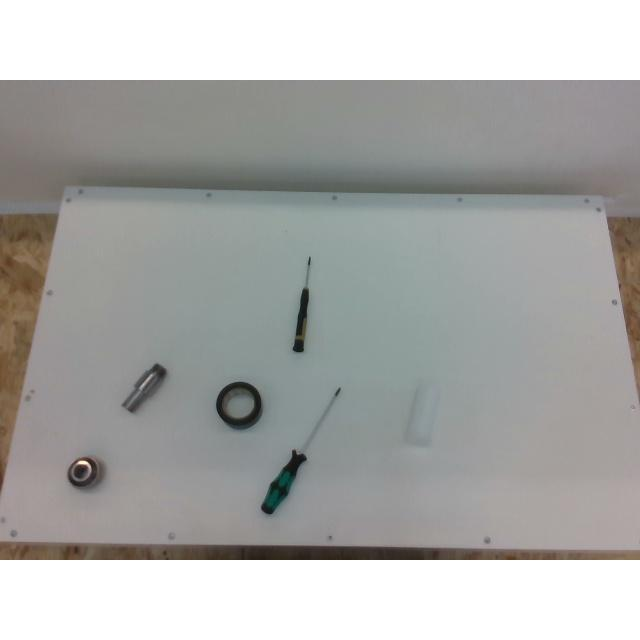Axis2: (122, 363, 166, 412)
Bearing2: (67, 456, 103, 488)
Screwdriver: (260, 387, 340, 515)
Spacer: (403, 378, 439, 446)
